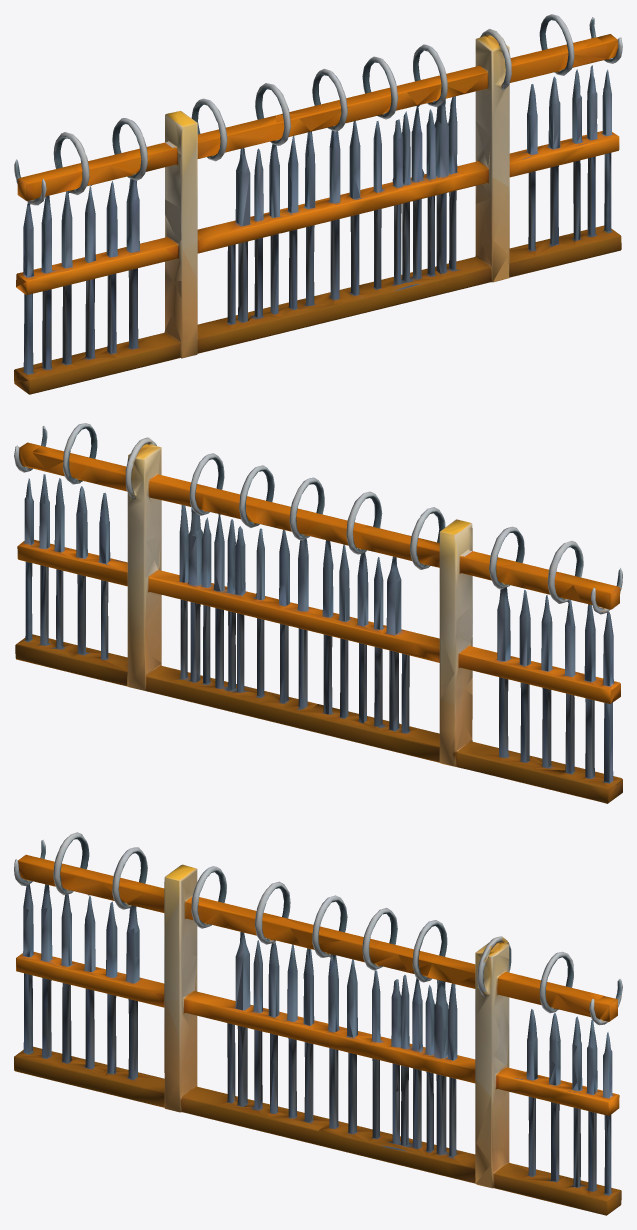
Rendered from quit.fbx.
3 renders of one model, top to bottom at view 1: azimuth 30°, elevation 25°; view 2: azimuth 150°, elevation 25°; view 3: azimuth 330°, elevation 25°, orthographic.
Visible parts, largest first — view 1: tripo_node_62ed36e0; view 2: tripo_node_62ed36e0; view 3: tripo_node_62ed36e0.
Part boxes in pixels (<box>): tripo_node_62ed36e0: <box>14,14,622,394</box>; tripo_node_62ed36e0: <box>14,423,622,803</box>; tripo_node_62ed36e0: <box>14,832,622,1215</box>.
Size of the model in its own units: 99.98 by 39.32 by 9.62.
1 material, 1 textured.
